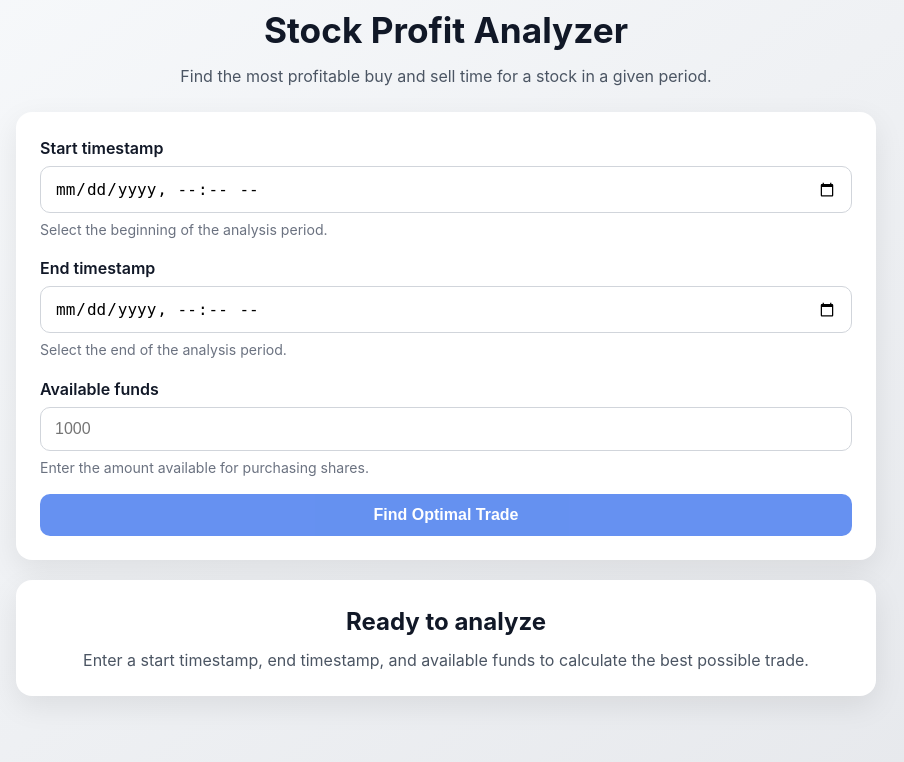
Scenario: App › shows invalid time range error when end is earlier than start
The image size is (904, 762).
Type "2026-03-01T10:05" into the field labelled "Start timestamp" at (446, 190), box [40,166,852,213]
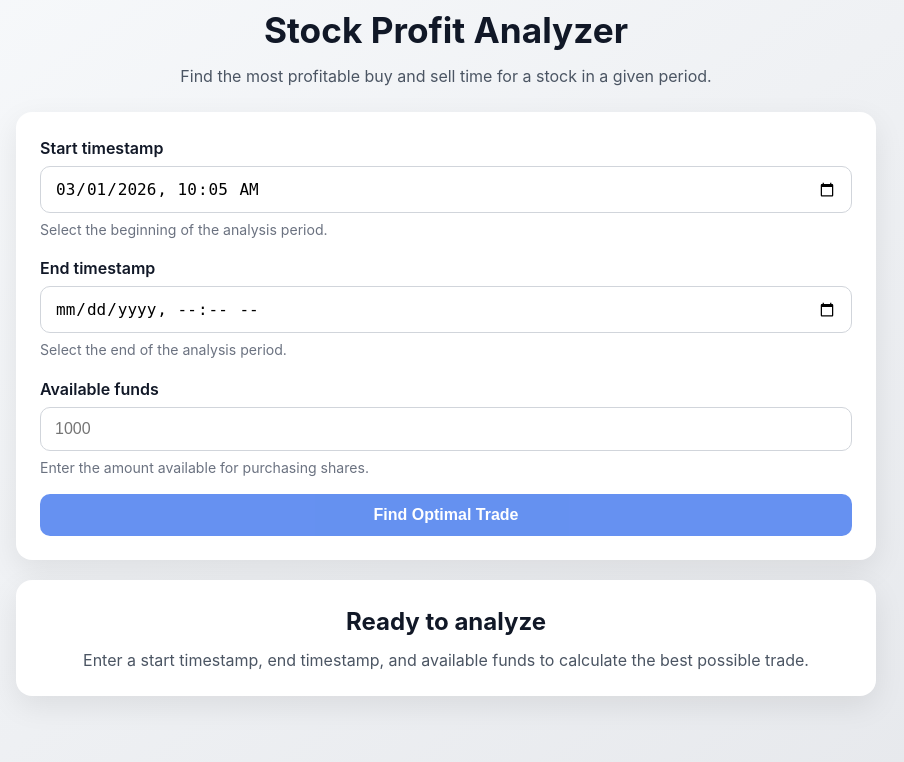
Type "2026-03-01T10:00" into the field labelled "End timestamp" at (446, 310), box [40,286,852,334]
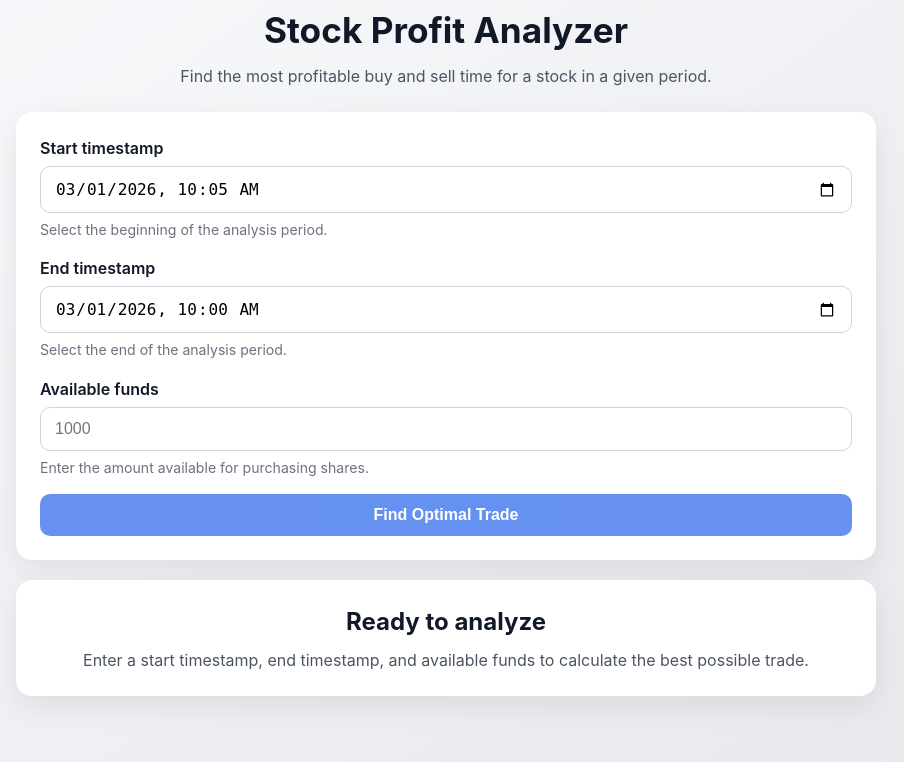
Leave the field labelled "End timestamp", box [40,286,852,334]
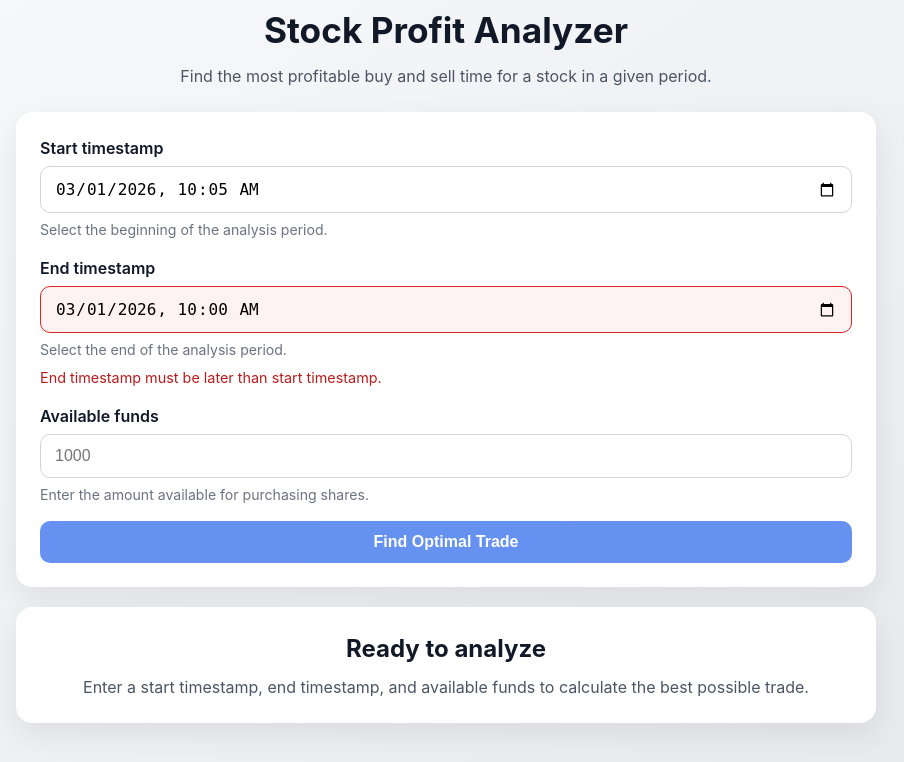
Expected: the text "End timestamp must be later than start timestamp." is shown, [40,369,382,386]
